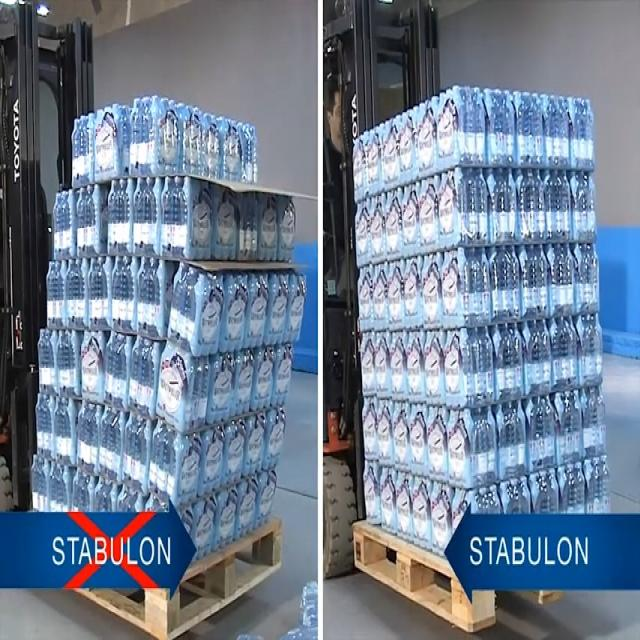Chariot elevateur: (324, 0, 450, 584), (0, 0, 95, 516)
Palette: (64, 509, 286, 640), (344, 513, 497, 636)
